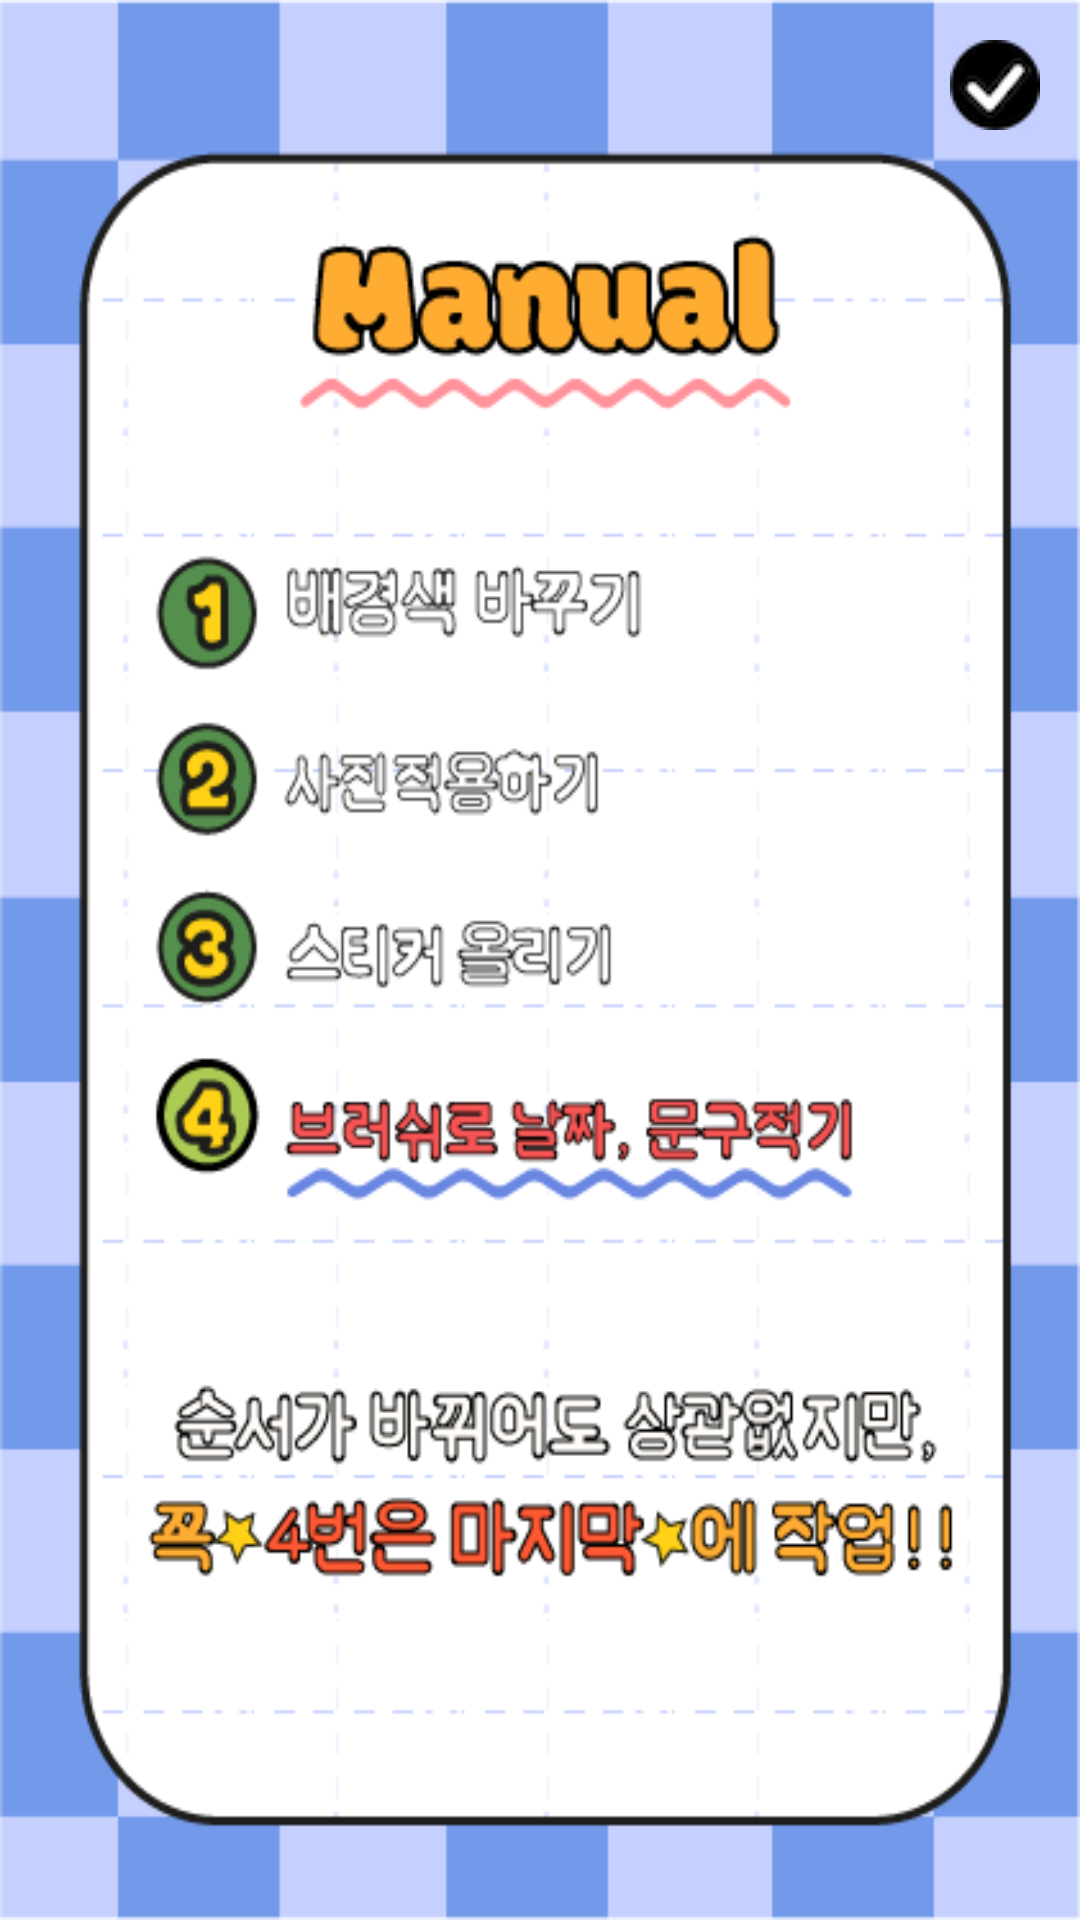

Named icons in this screenshot (1080w x 1920h) and their centers, point (x, y):
complete: point (995, 85)
